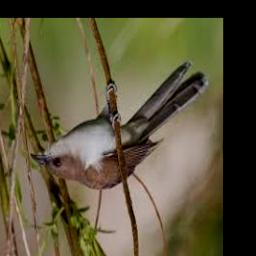Cuckoo: (31, 61, 210, 190)
